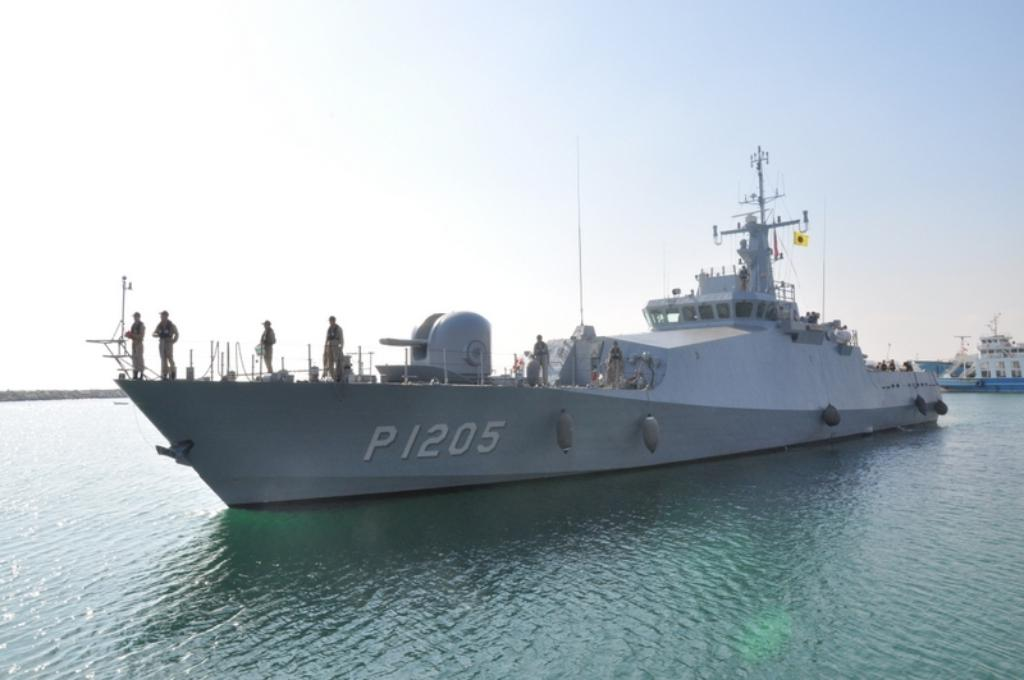Warship: (108, 118, 958, 518)
